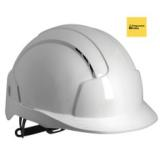Helmet: (4, 22, 159, 134)
